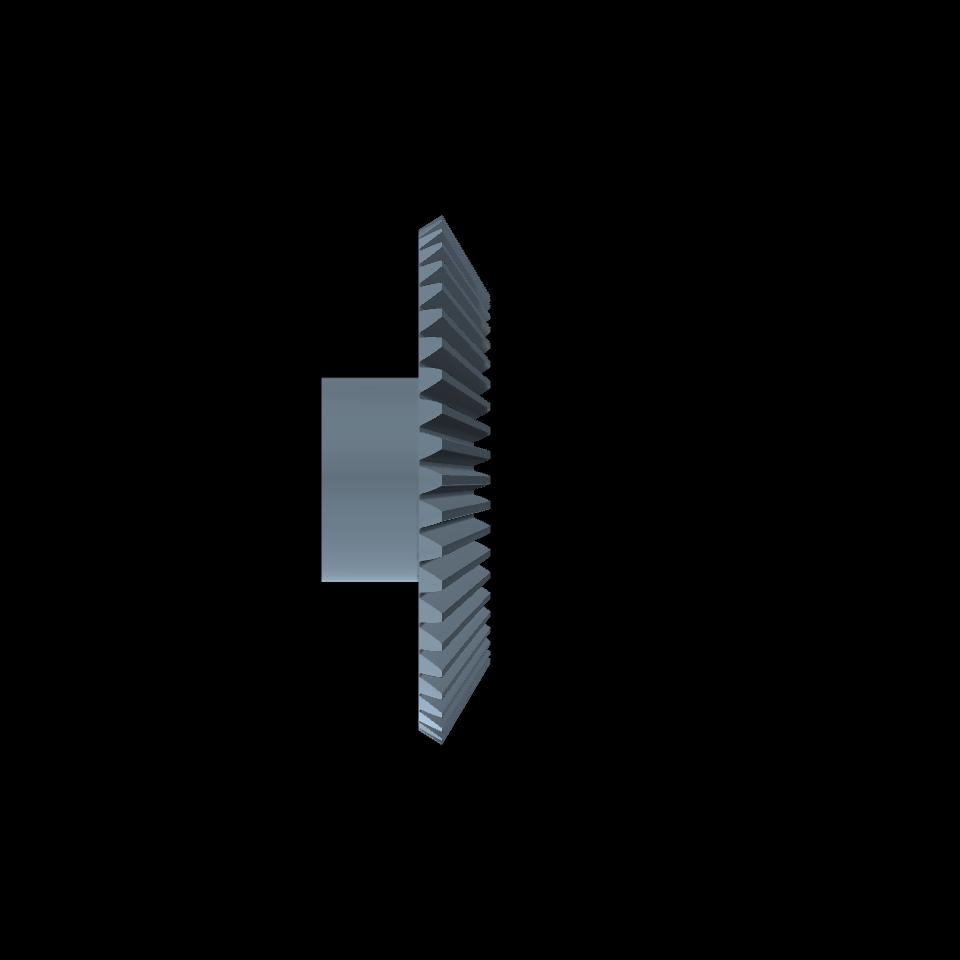Bevel: (418, 215, 492, 745)
